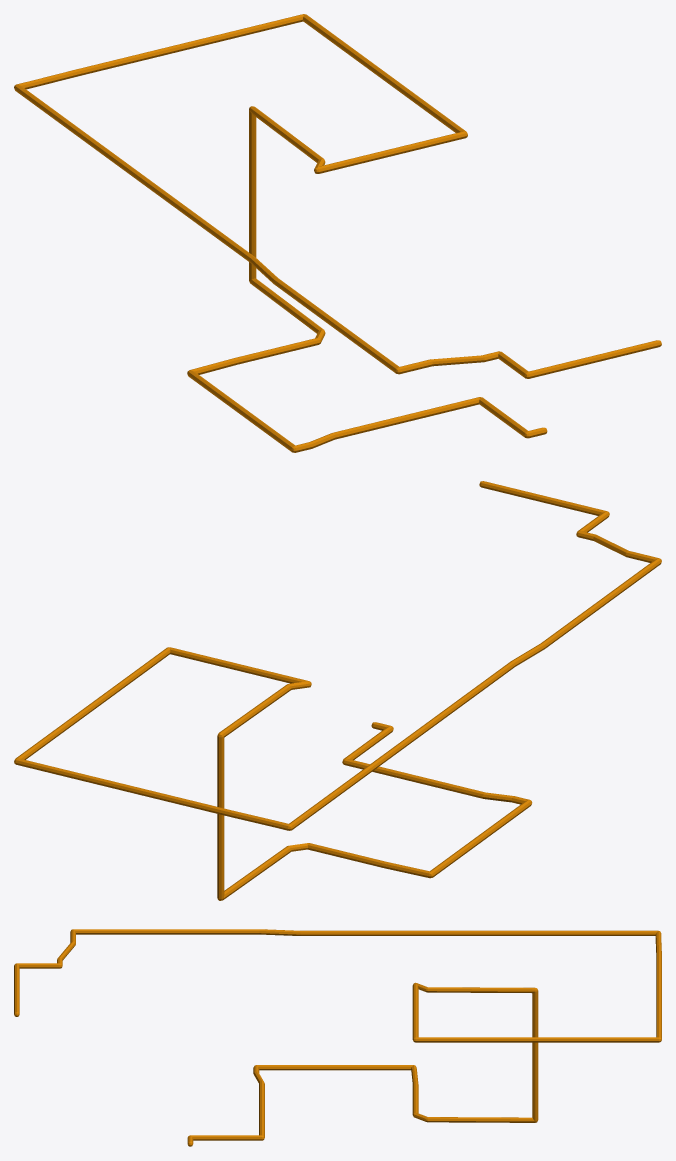
The picture shows the model from 3 angles, top to bottom: view 1: azimuth 30°, elevation 25°; view 2: azimuth 150°, elevation 25°; view 3: azimuth 270°, elevation 25°; orthographic projection. The views are drawn at different scales.
Size of the model in its own units: 912 by 520 by 2263.
